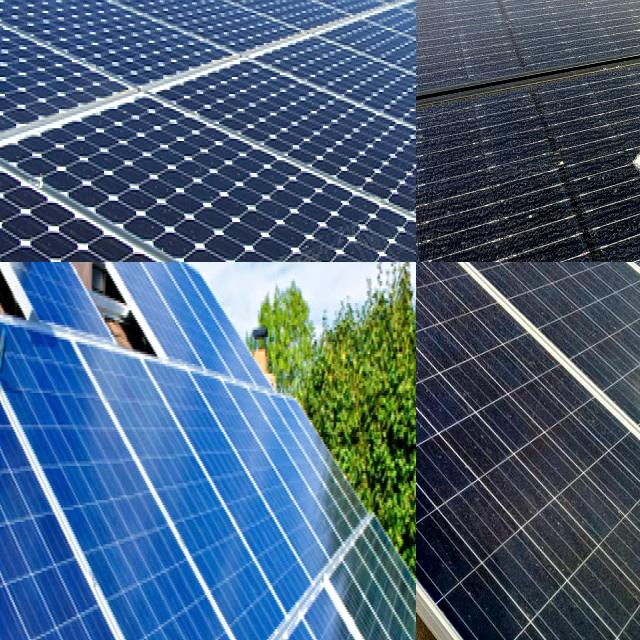bird: (610, 123, 640, 205)
crack: (0, 295, 378, 640), (80, 422, 416, 640), (89, 262, 290, 402), (0, 262, 115, 340), (293, 110, 388, 170), (260, 88, 338, 146), (0, 41, 55, 110), (195, 78, 278, 120), (236, 69, 296, 125), (355, 138, 416, 188), (66, 0, 118, 58), (217, 216, 279, 262), (10, 0, 88, 35), (143, 218, 202, 262), (64, 172, 118, 220), (117, 204, 171, 252), (314, 48, 379, 86), (348, 53, 404, 97), (27, 216, 80, 262), (176, 226, 233, 262), (180, 198, 237, 234), (89, 222, 140, 262), (240, 226, 295, 262), (250, 190, 296, 232), (100, 128, 146, 170), (208, 182, 254, 223), (232, 172, 270, 220), (135, 168, 178, 209), (308, 218, 352, 258), (66, 130, 110, 170), (270, 235, 334, 262), (61, 212, 102, 254), (0, 229, 51, 262), (94, 190, 134, 232), (36, 164, 86, 196), (279, 206, 327, 238), (152, 162, 196, 196), (32, 142, 84, 170), (386, 75, 416, 120), (58, 239, 114, 262), (119, 158, 152, 196), (110, 243, 174, 262), (136, 0, 193, 16)
dust: (416, 407, 588, 557), (440, 262, 602, 353), (529, 515, 640, 640), (416, 262, 479, 352)
